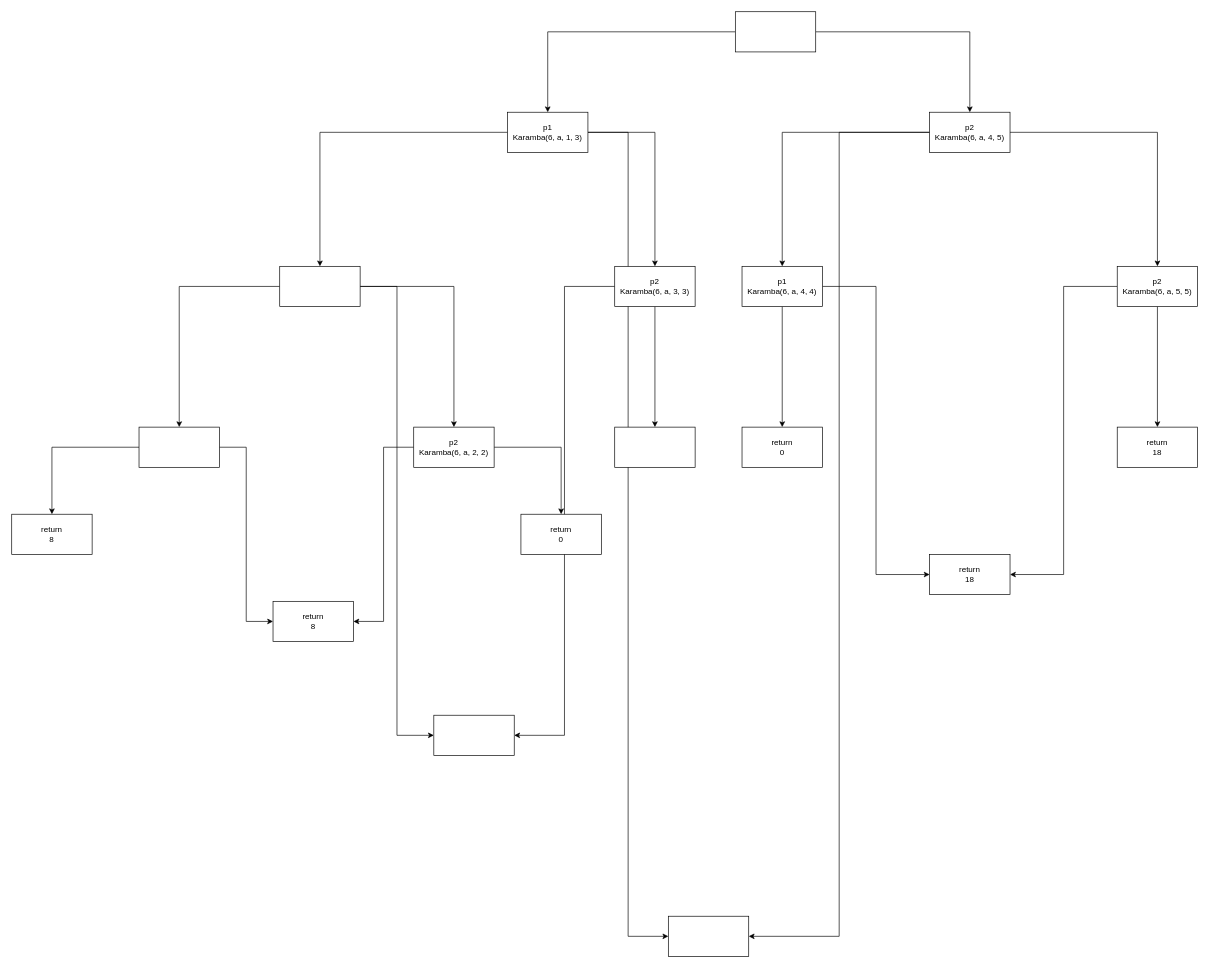
This 1209x968 diagram has some shape labels left out. Each missing label, with the centre of its shape:
Karamba(6, a, 1, 5): (x=775, y=31)
p1 Karamba(6, a, 1, 1): (x=178, y=446)
p1 Karamba(6, a, 1, 2): (x=319, y=286)
return 14: (x=654, y=446)
return 22: (x=473, y=735)
return 40: (x=708, y=936)
